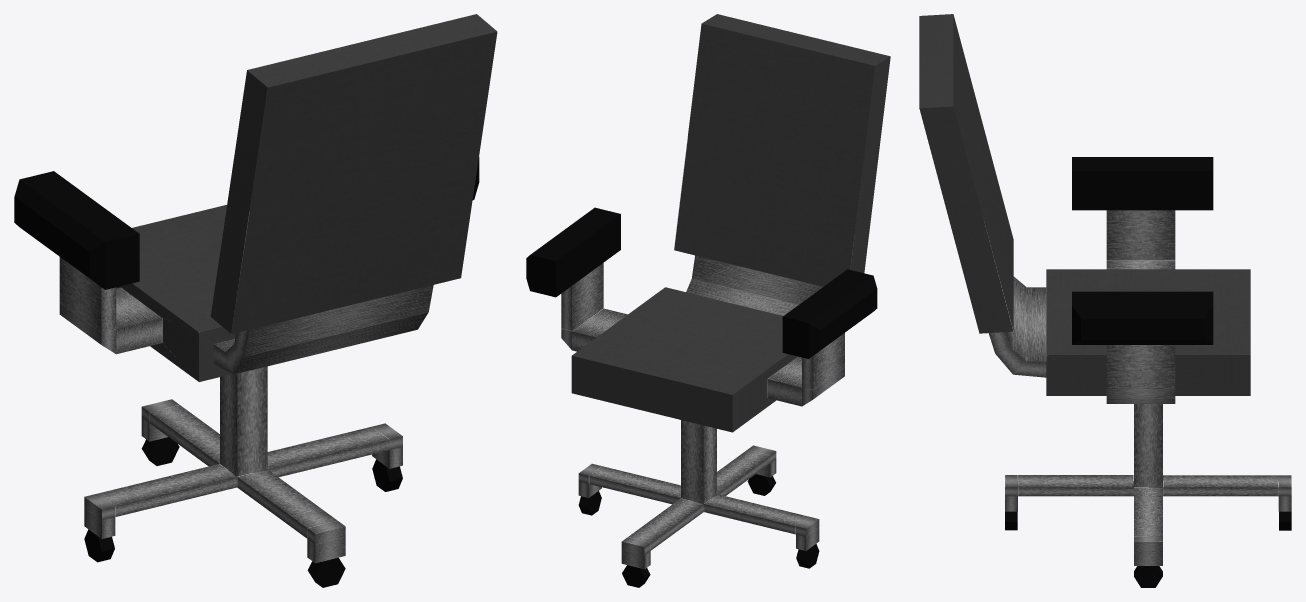
Rendered from chaise_bureau_S1.fbx.
3 views of the same model, side by side, from view 1: azimuth 30°, elevation 25°; view 2: azimuth 150°, elevation 25°; view 3: azimuth 270°, elevation 25° (orthographic). The views are drawn at different scales.
Parts seen in each view (by area): view 1: Cube; view 2: Cube; view 3: Cube.
Boxes of the visible parts, bbox=[...] form: Cube: bbox=[14, 14, 497, 587]; Cube: bbox=[526, 14, 890, 587]; Cube: bbox=[919, 14, 1291, 587].
Bounding box in the file's own units: 2563 × 3563 × 2573.
